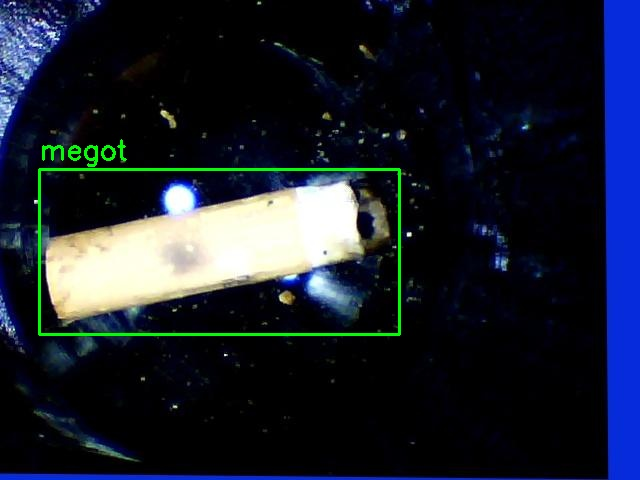megot: (39, 169, 399, 334)
